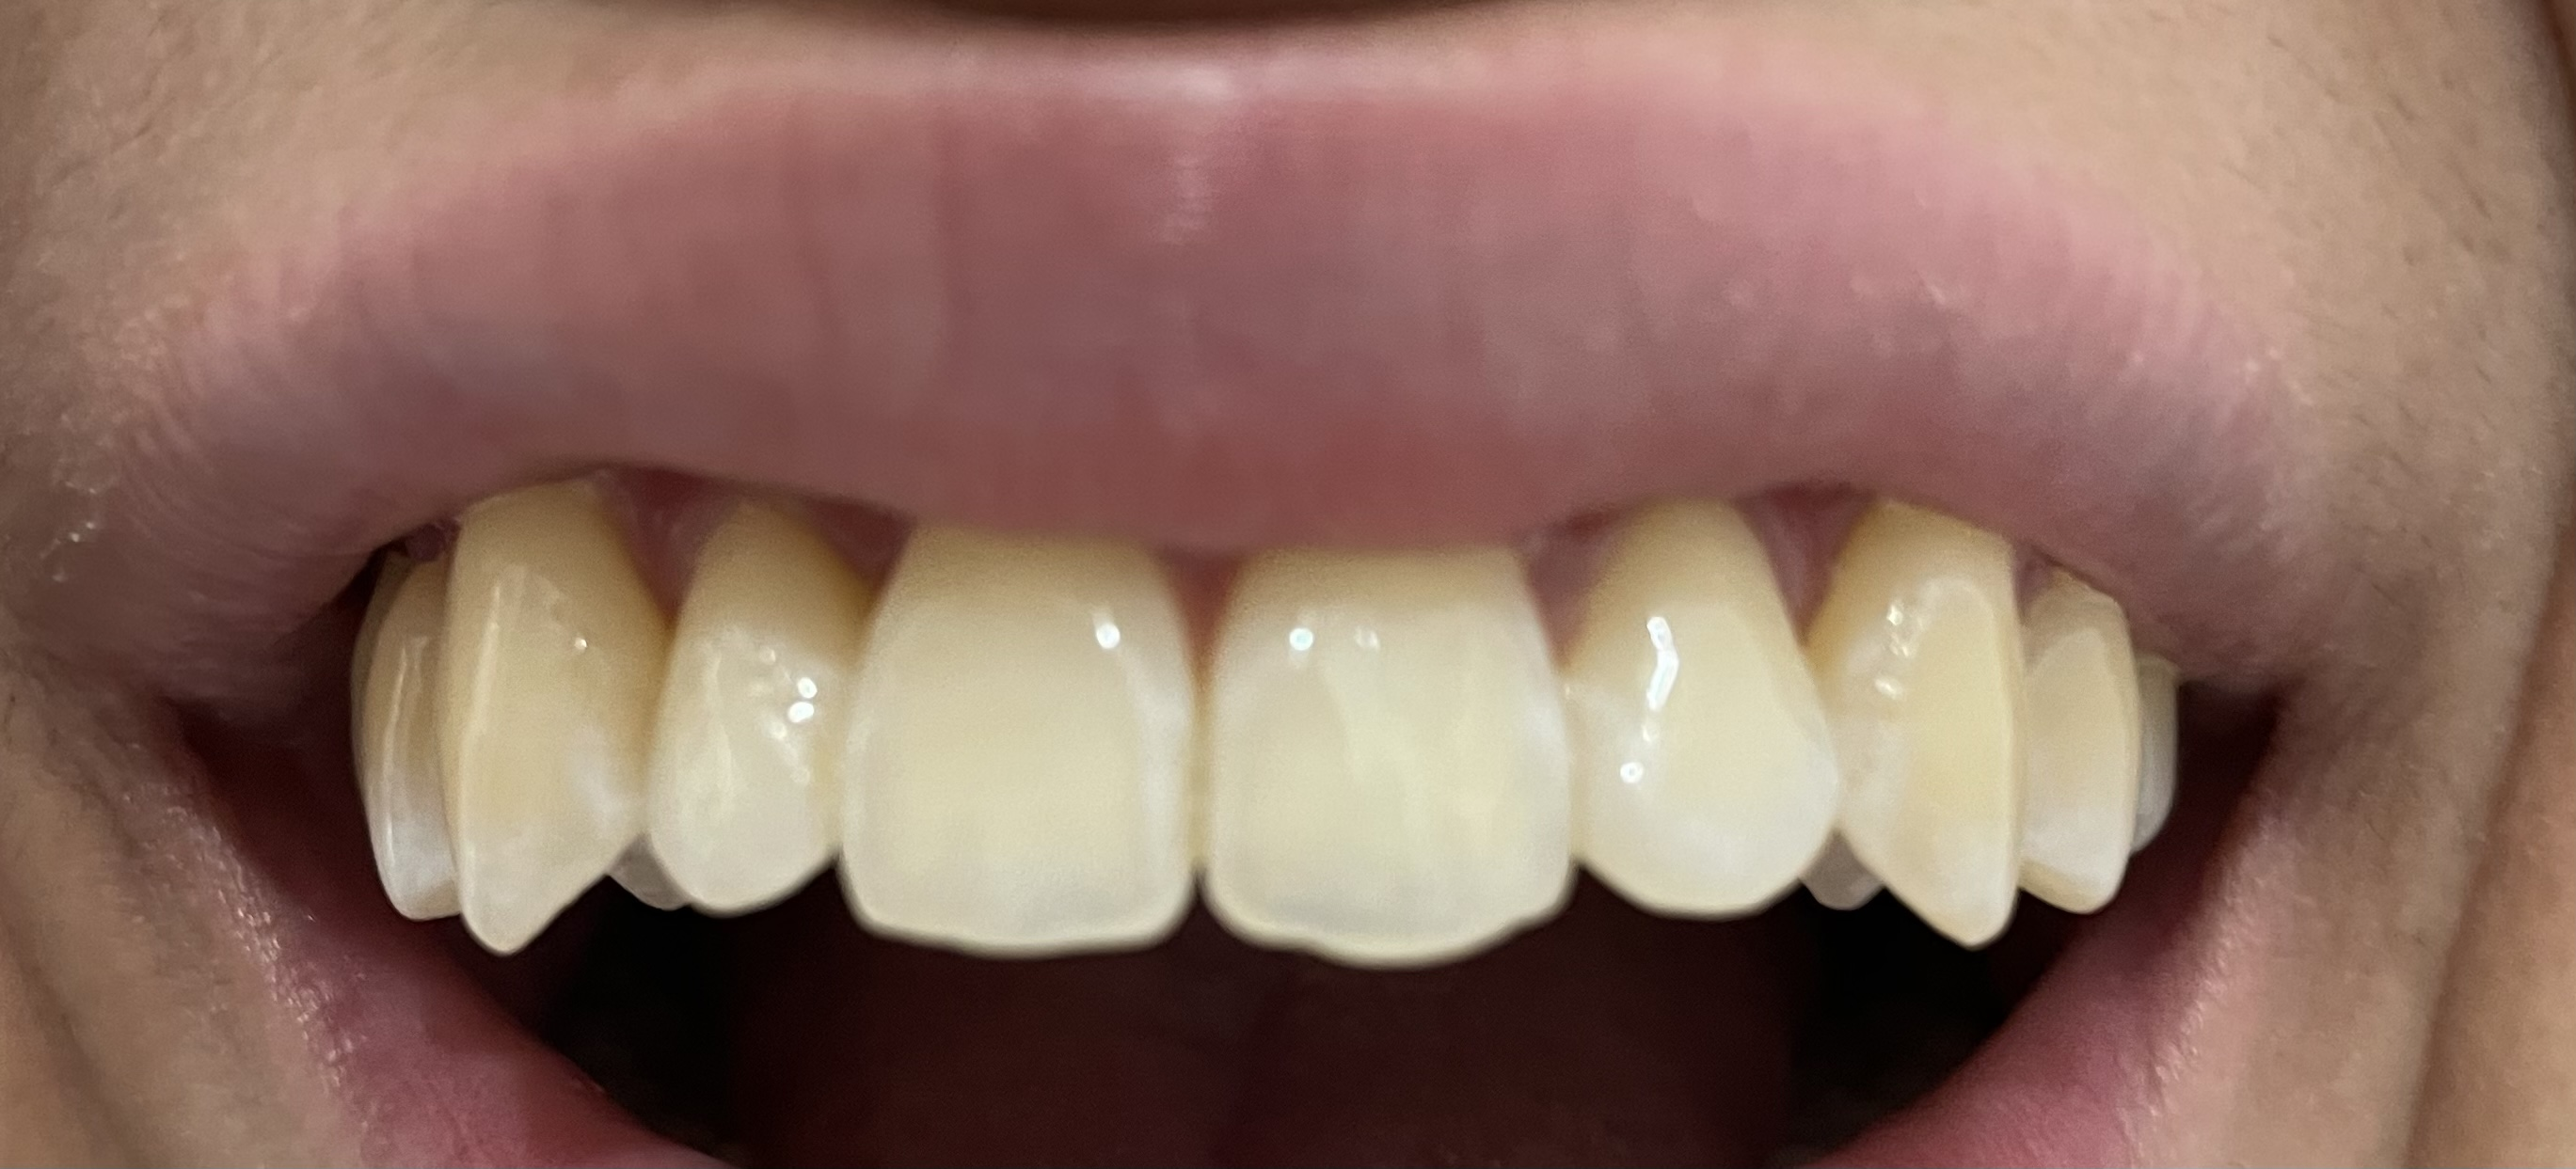teeth: (851, 525, 1199, 923), (1211, 562, 1569, 946), (1571, 506, 1833, 896), (1807, 504, 2021, 939), (453, 506, 665, 941), (647, 506, 867, 900), (2026, 580, 2136, 911), (375, 565, 444, 910)
